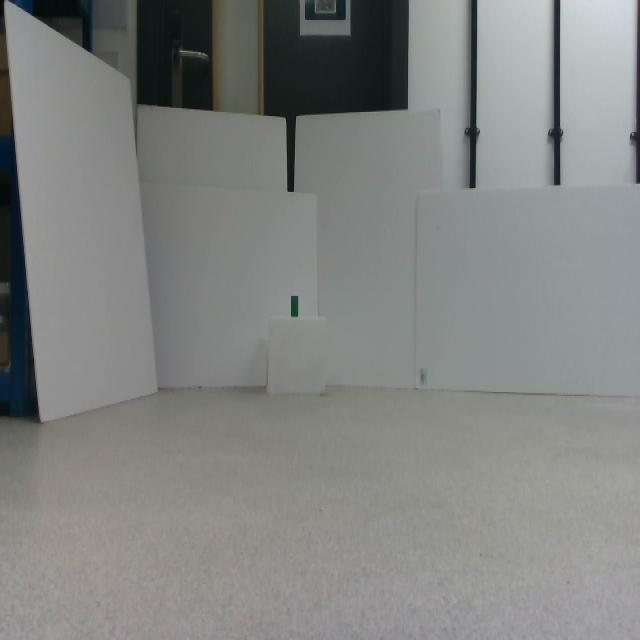green_cylinder: (291, 296, 298, 317)
